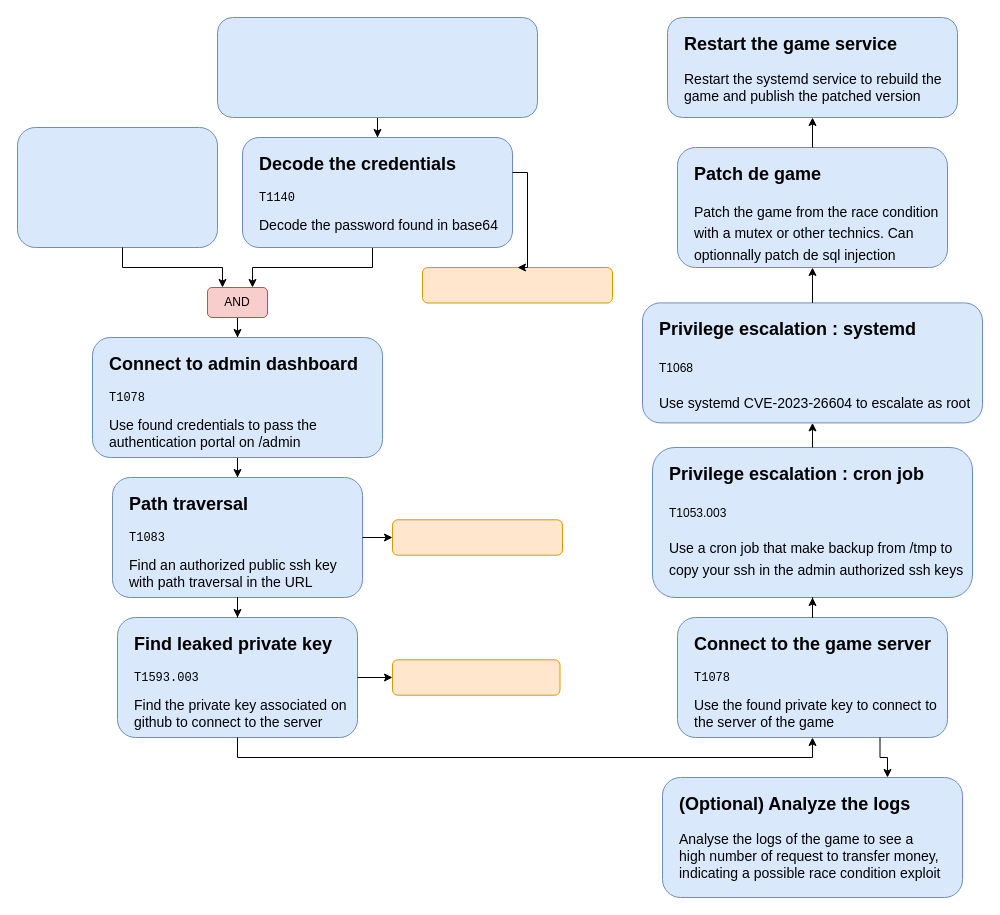
This 1000x915 diagram has some shape labels left out. Here are the shapes that lost their labels. From the top down, the centre of each, then its label:
(377,67): Enumerate sqlite database T1213 The game has a field vulnerable to sql injection
(117,187): Enumerate website T1595.003 Enumerate path of the website to find /admin page
(517,284): Admin Credentials
(477,537): SSH public key
(476,677): SSH private key
